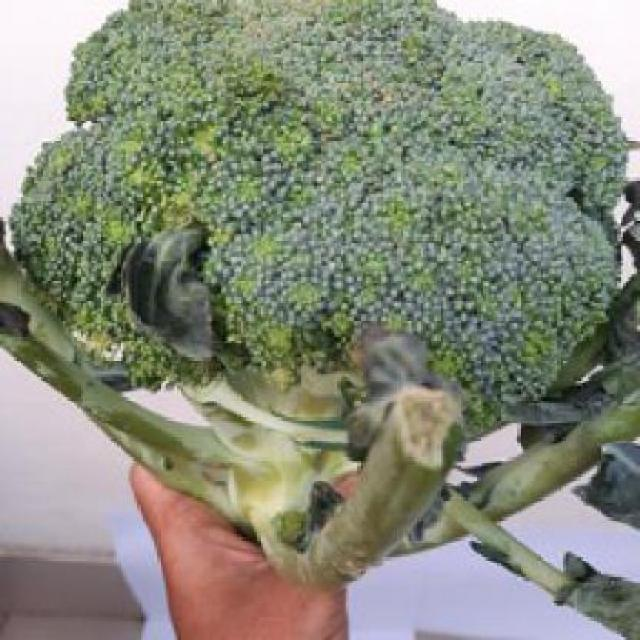broccoli: (26, 11, 632, 522)
